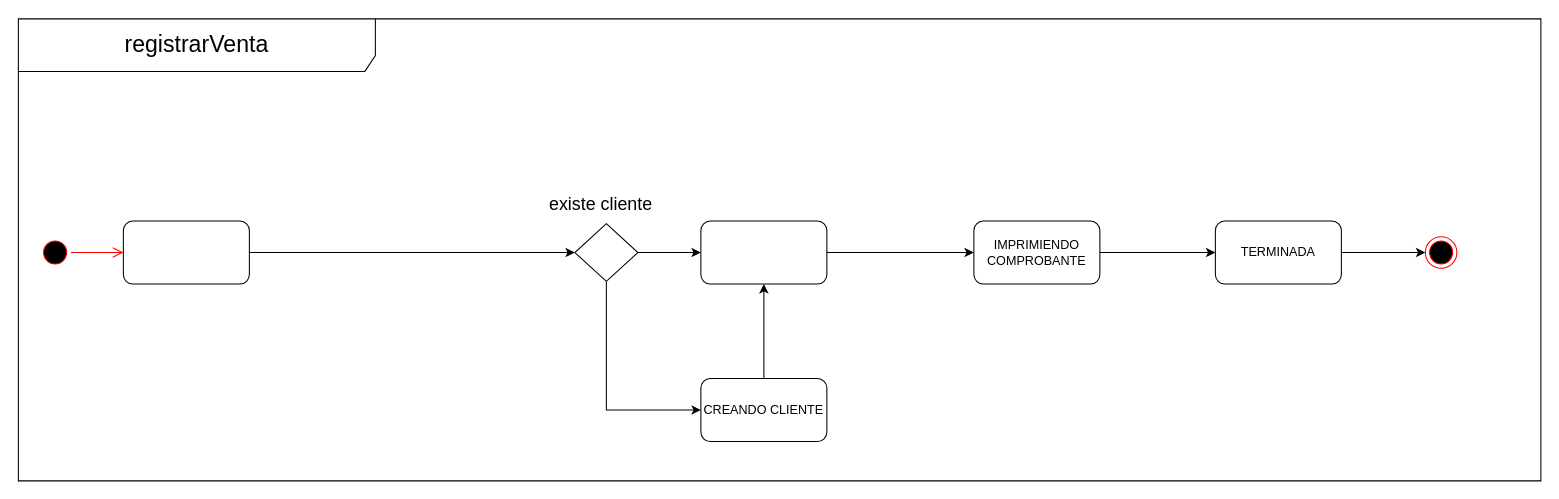
The diagram is 1559 pixels wide and 499 high, and some of its shapes have lost their labels. Each missing label, with the centre of its shape:
CLIENTE ASIGNADO: (763,252)
PREPARACION: (185,252)
